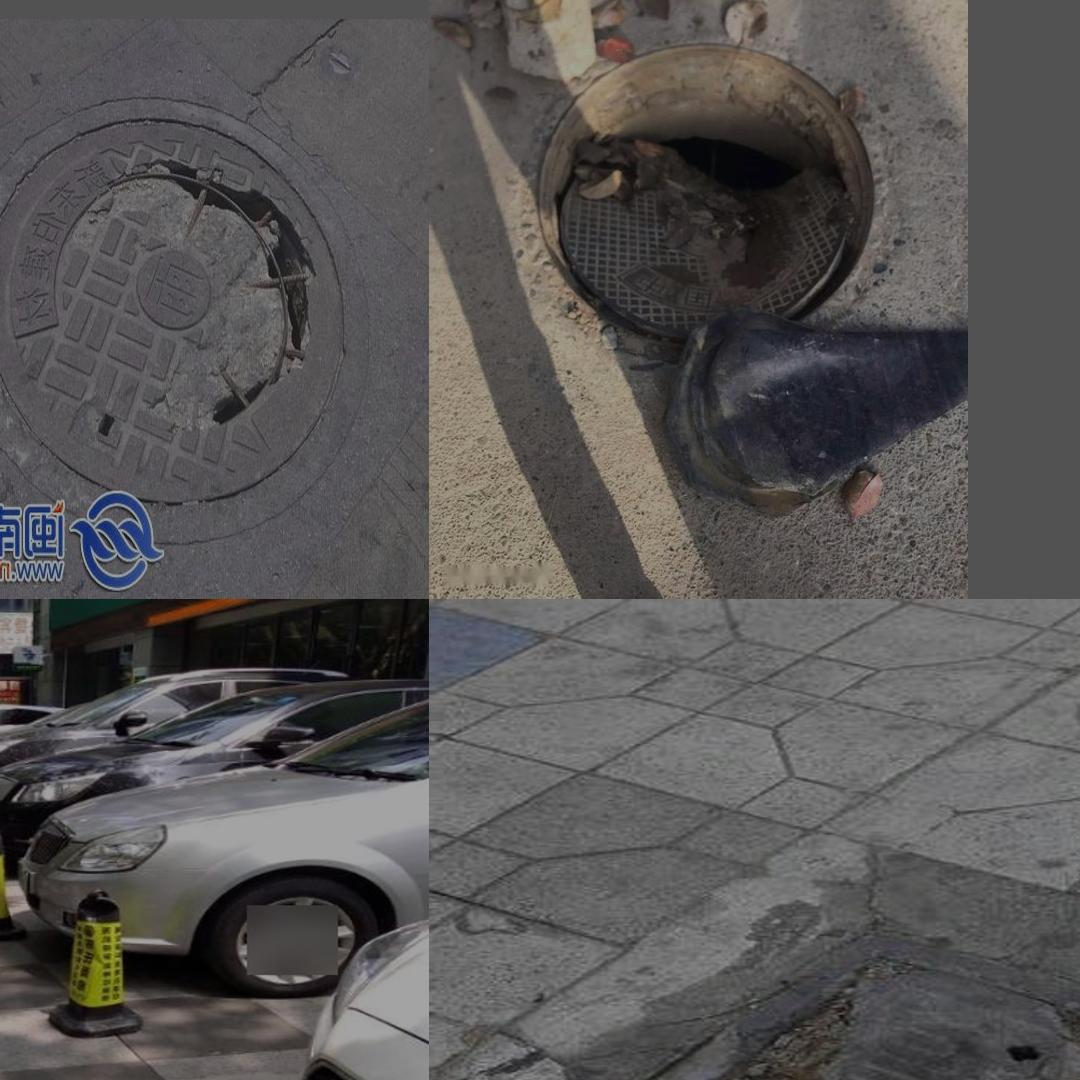broke: (0, 104, 366, 516), (518, 33, 897, 346), (496, 918, 1080, 1080)
